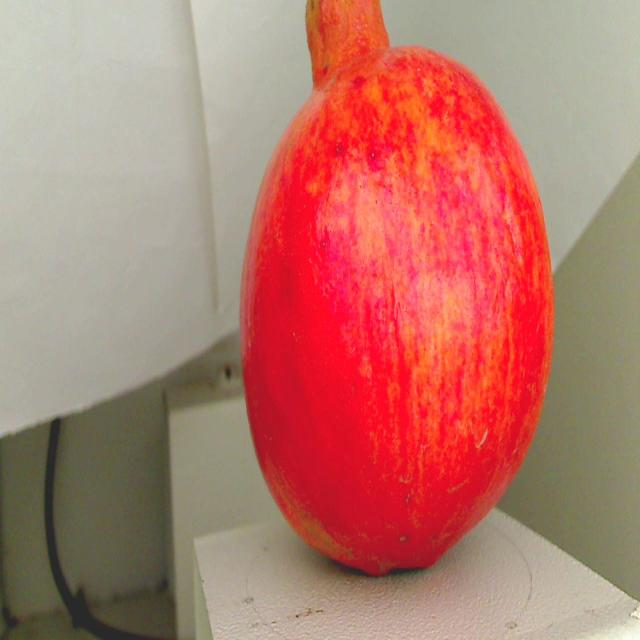pomegranate: (230, 0, 570, 597)
